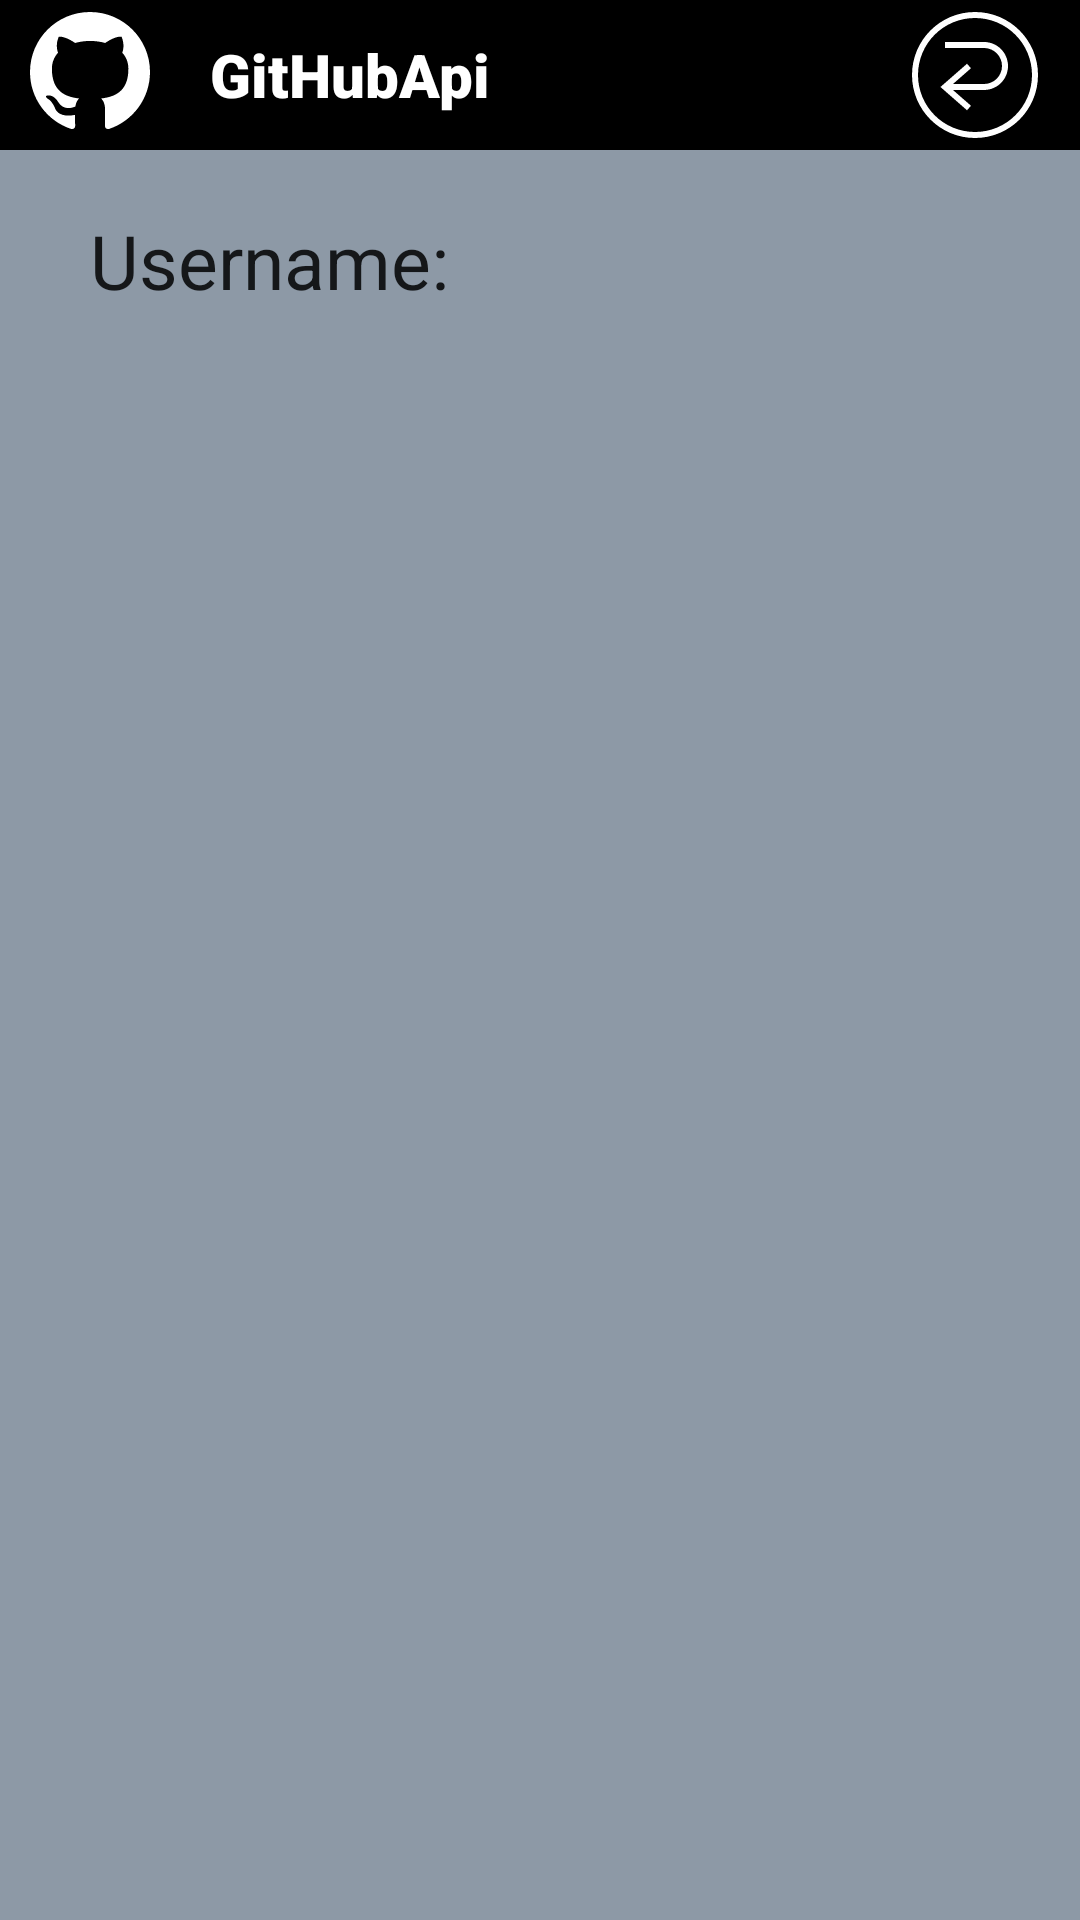

Icons on this 1080x1920 Android screen, each with its box as [x1=x1, y1=y1, x2=x2, y2=y2]:
back arrow: [x1=912, y1=12, x2=1038, y2=138]
